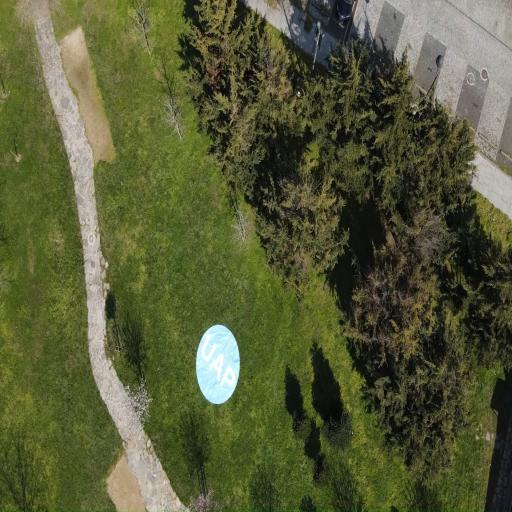car: (196, 325, 240, 403)
